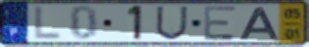0: (69, 5, 100, 42)
1: (125, 4, 145, 42)
A: (238, 6, 280, 41)
E: (202, 5, 239, 42)
L: (32, 5, 64, 42)
U: (154, 5, 190, 41)
